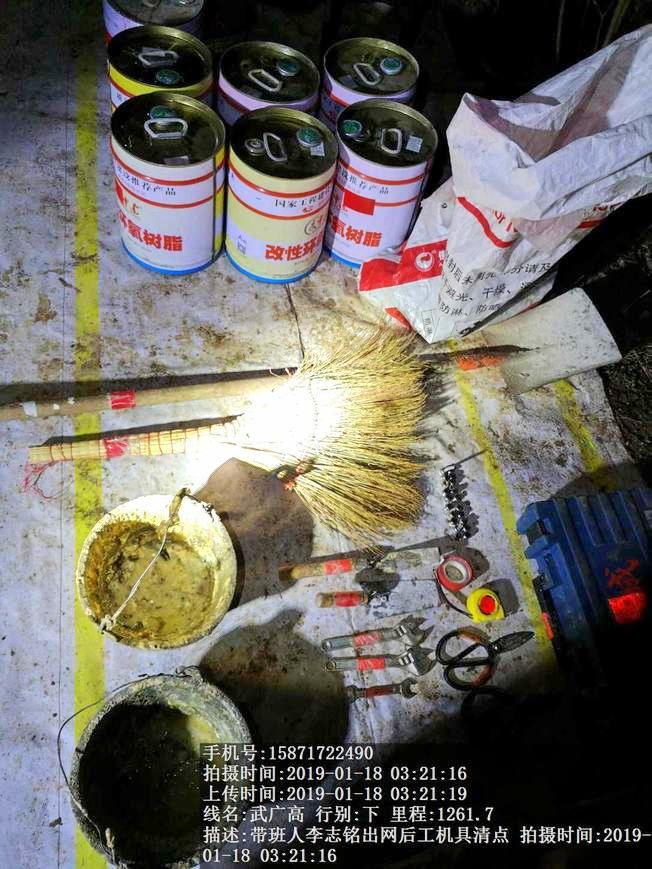SB: (27, 326, 432, 530)
SNT: (63, 677, 249, 860), (70, 487, 239, 652)
